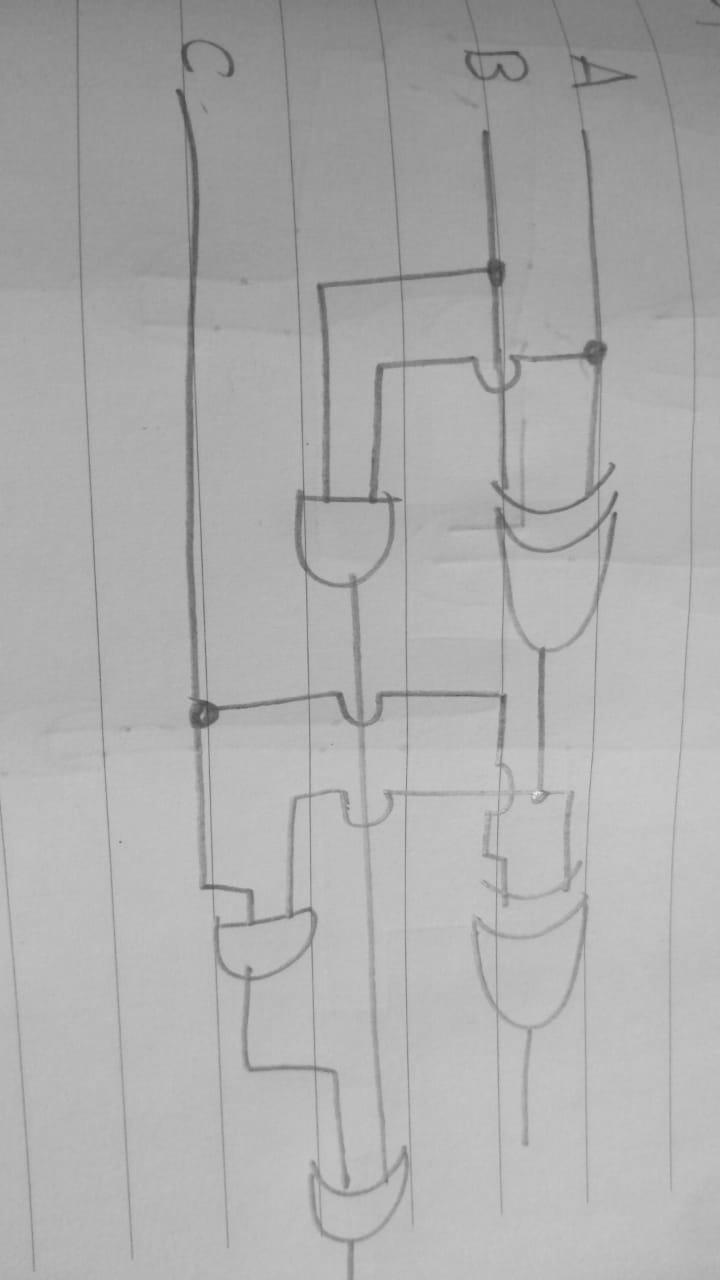AND: (270, 468, 417, 602), (192, 907, 341, 995)
OR: (288, 1145, 431, 1264)
XOR: (465, 860, 625, 1064), (485, 452, 636, 663)
